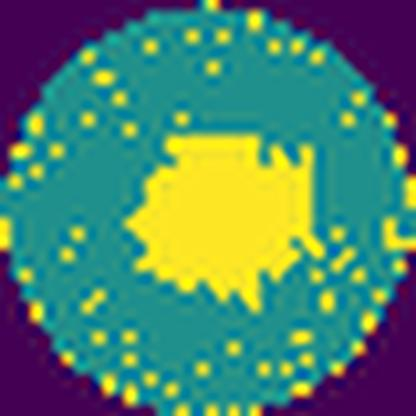Center: (127, 132, 327, 311)
